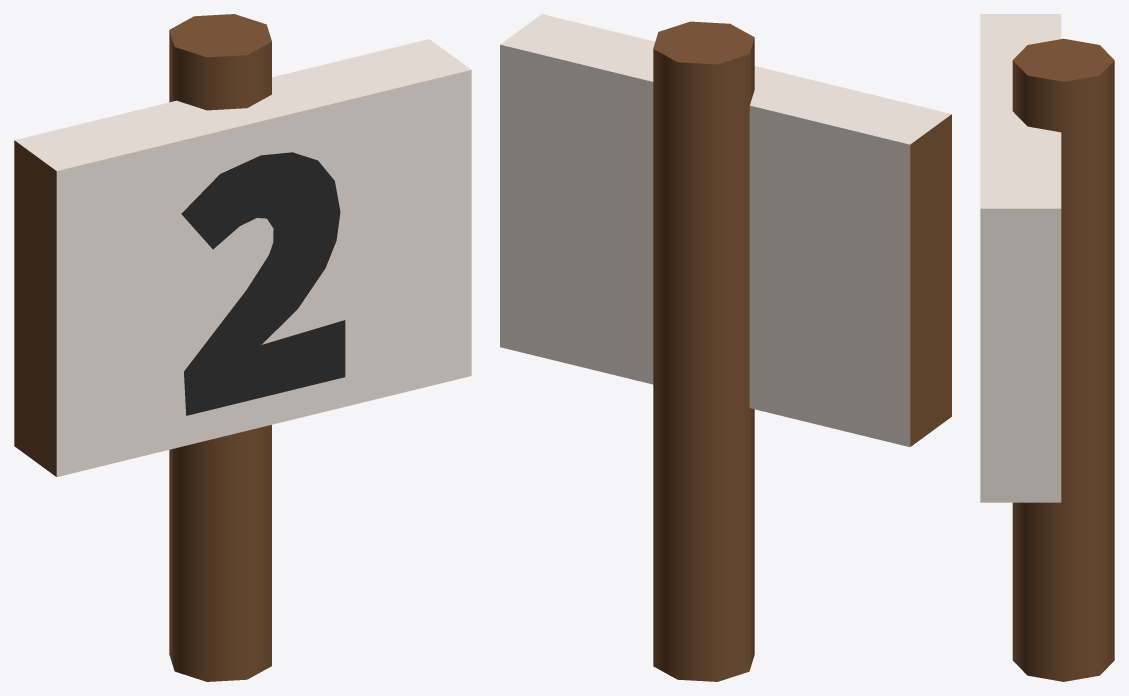
File: nameplate_02.FBX
3 views of the same model, side by side, from view 1: azimuth 30°, elevation 25°; view 2: azimuth 150°, elevation 25°; view 3: azimuth 270°, elevation 25° (orthographic). The views are drawn at different scales.
Parts seen in each view (by area): view 1: nameplate_02; view 2: nameplate_02; view 3: nameplate_02.
Boxes of the visible parts, <box> form: nameplate_02: <box>14,14,471,681</box>; nameplate_02: <box>500,14,951,681</box>; nameplate_02: <box>980,14,1114,681</box>.
Size of the model in its own units: 234 by 68.55 by 337.
1 material, 1 textured.
